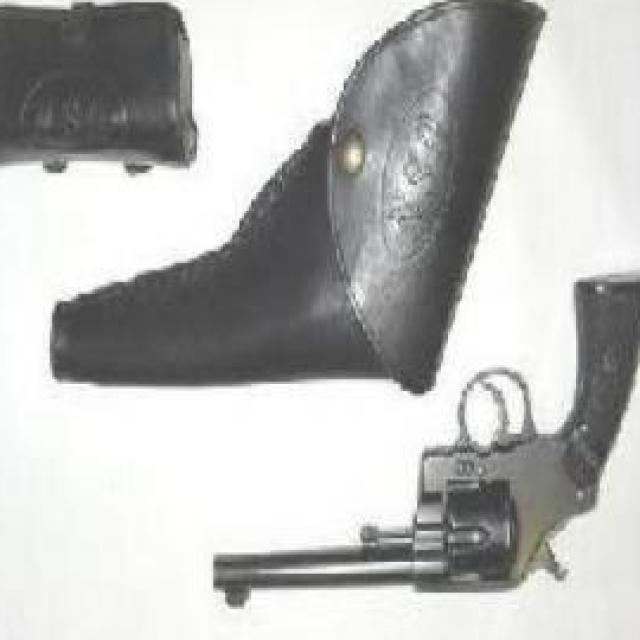pistol: (213, 278, 640, 616)
